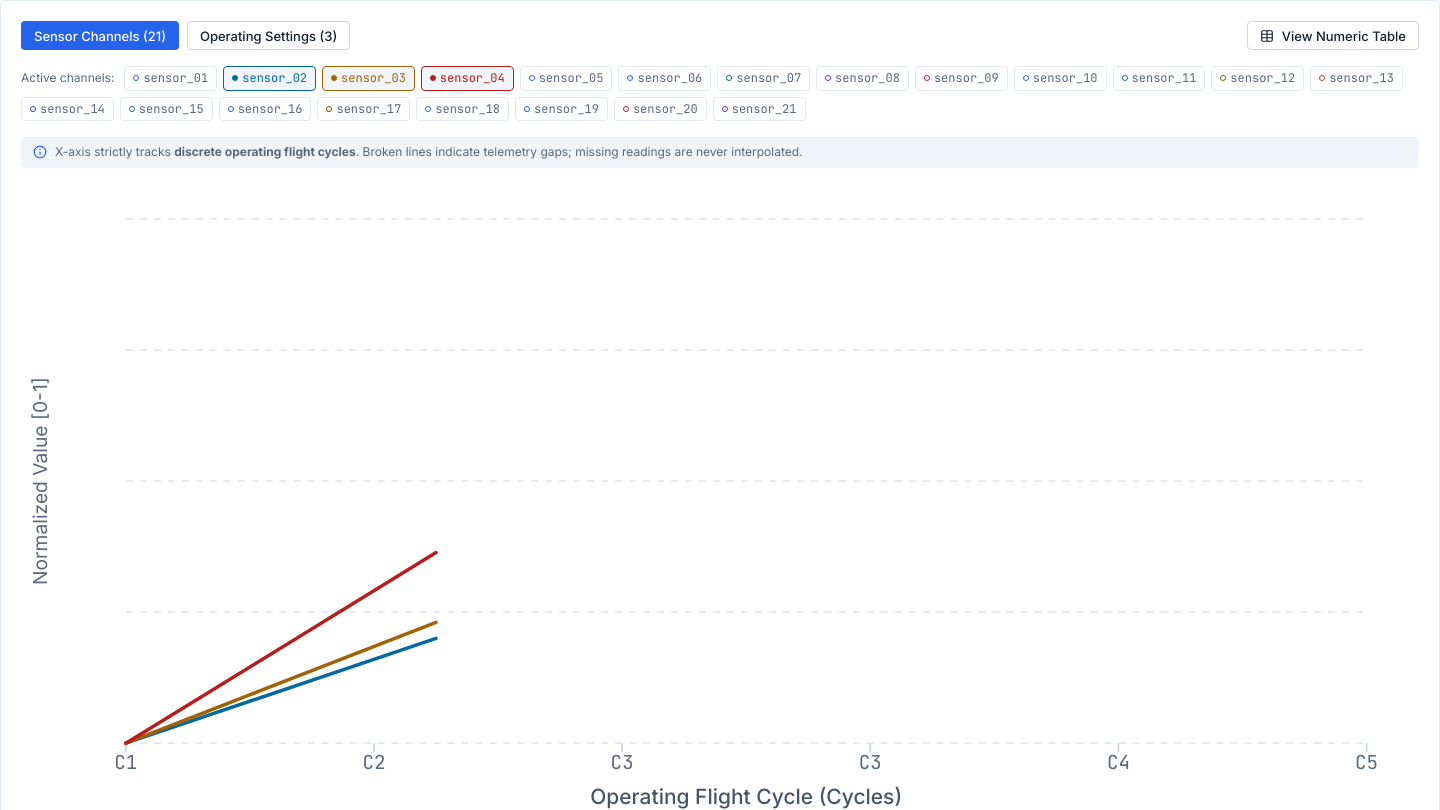
SensorTrendChart › allows switching between sensor channels and operating settings
The width and height of the screenshot is (1440, 810).
What coordinates should you click on to do the following:
click the button "Operating Settings (3)"
I would click on:
 (269, 36)
Its box is [187,21,350,50].
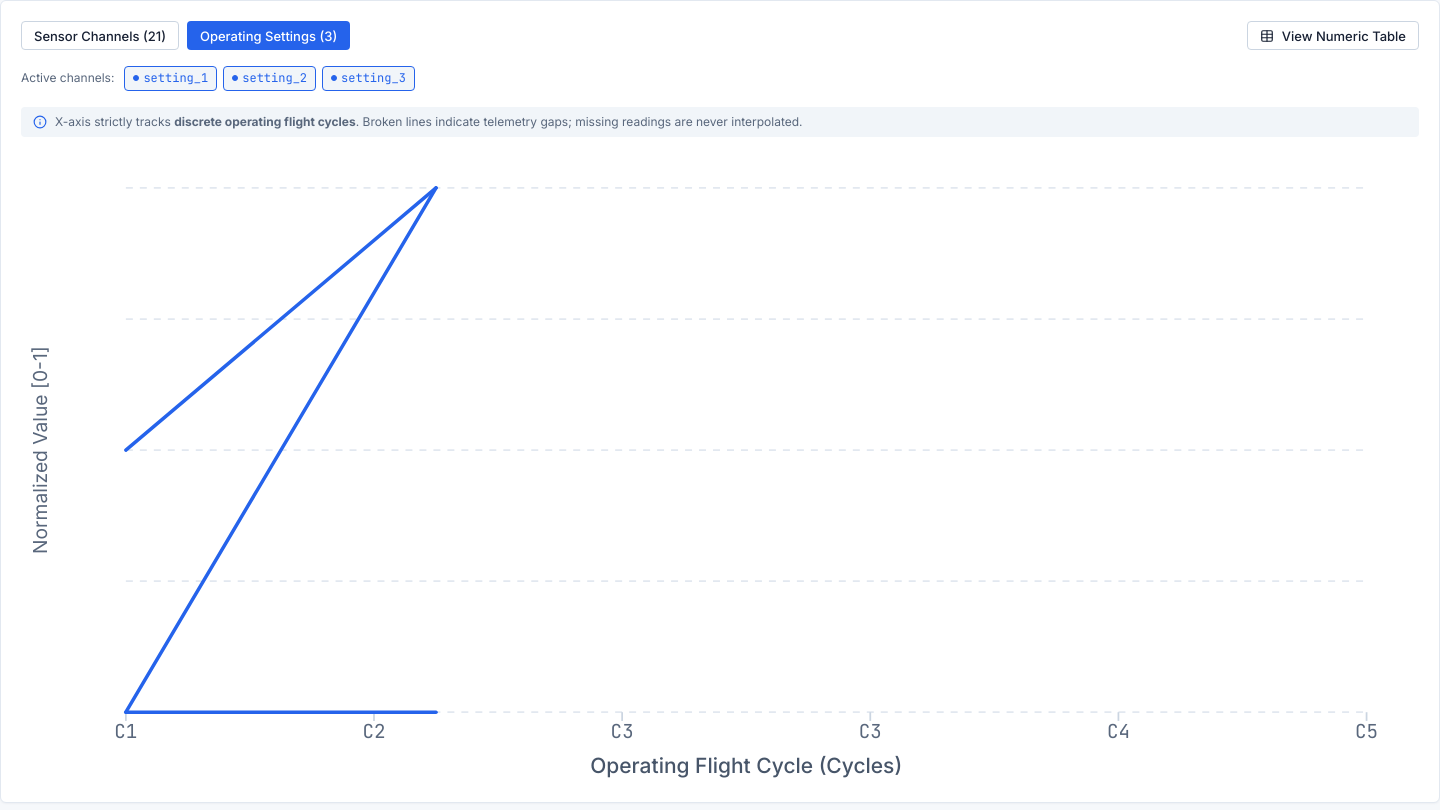
expect the button "setting_1" is shown: met, box [124,66,217,91]
expect the button "setting_2" is shown: met, box [223,66,316,91]
expect the button "setting_3" is shown: met, box [322,66,415,91]
